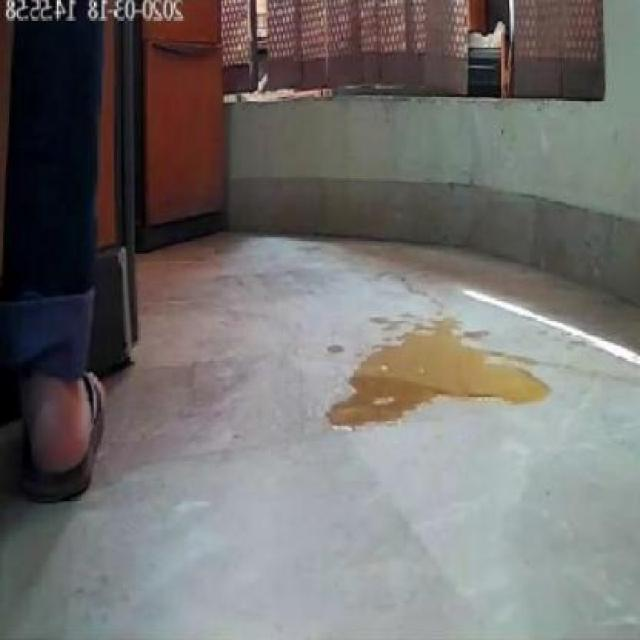spillage: (328, 319, 553, 429)
